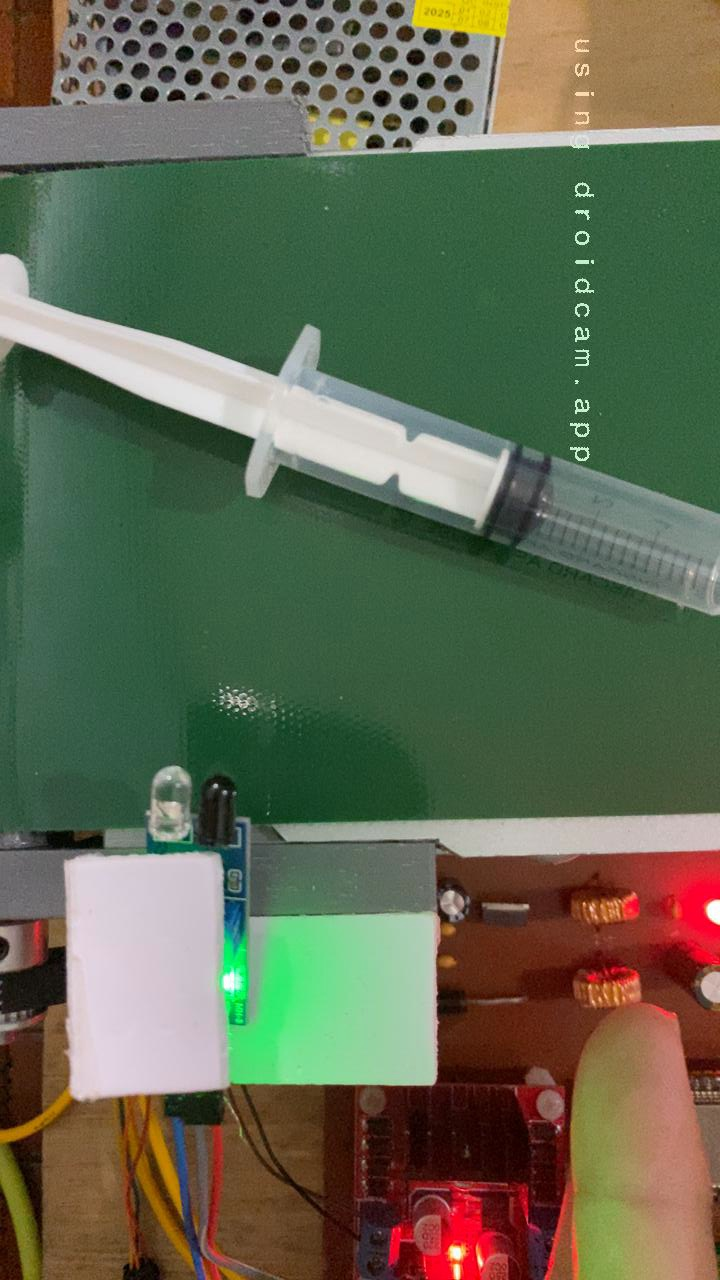syringe: (0, 246, 720, 624)
